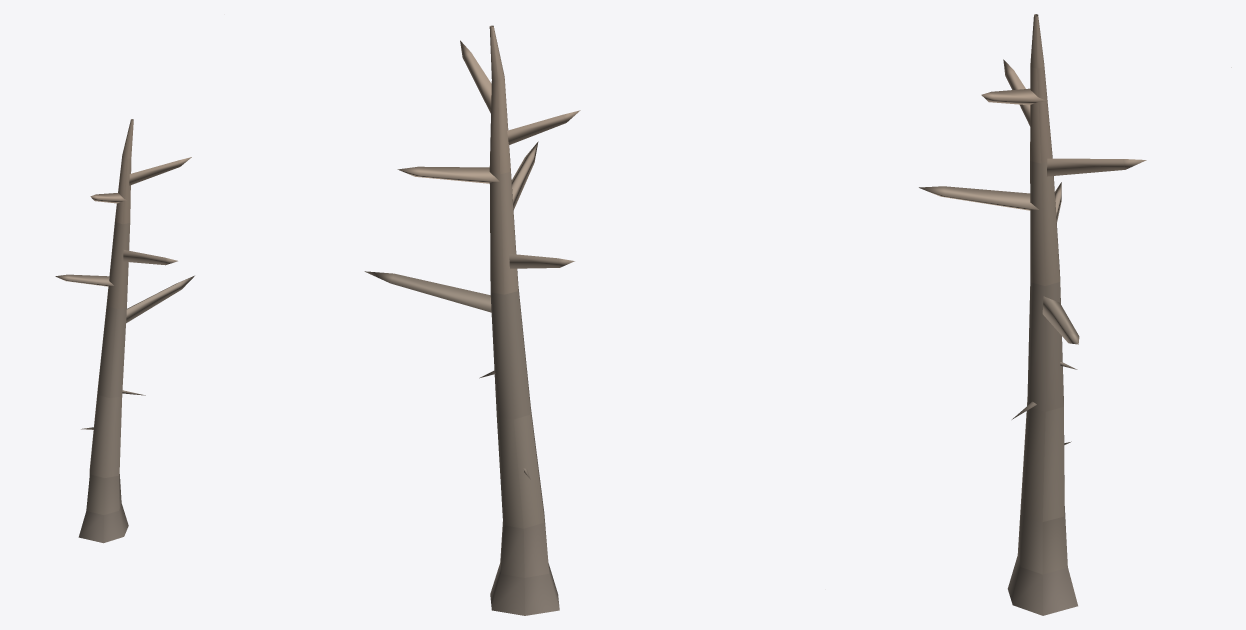
The model's file is ShorePine2_lite_bark.glb.
3 views of the same model, side by side, from view 1: azimuth 30°, elevation 25°; view 2: azimuth 150°, elevation 25°; view 3: azimuth 270°, elevation 25° (orthographic). The views are drawn at different scales.
Parts seen in each view (by area): view 1: ShorePine2_lite_bark; view 2: ShorePine2_lite_bark; view 3: ShorePine2_lite_bark.
Boxes of the visible parts, left/top/right/bottom form: ShorePine2_lite_bark: left=55, top=119, right=194, bottom=543; ShorePine2_lite_bark: left=364, top=25, right=580, bottom=615; ShorePine2_lite_bark: left=919, top=14, right=1231, bottom=615.
Size of the model in its own units: 15.11 by 20.45 by 10.93.
